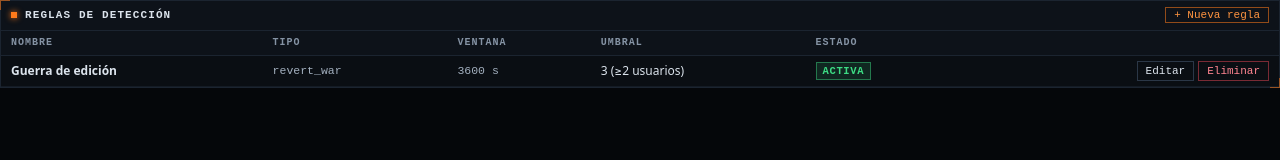
Test: RulesPanel › shows api errors
Check: the text "Guerra de edición" is shown, box top-left (1, 56), bottom-right (263, 86)
Click the button with aria-label "Pausar Guerra de edición" at (843, 71), box top-left (816, 62), bottom-right (871, 80)
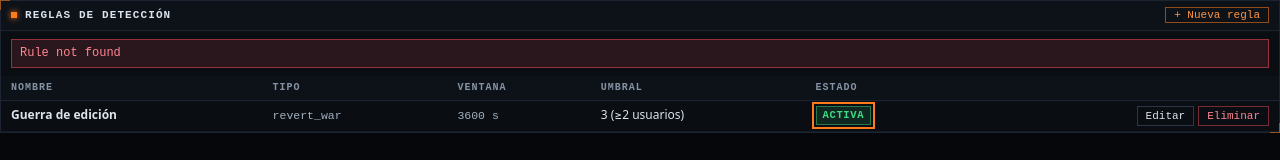
Check: the message reads "Rule not found", box top-left (20, 46), bottom-right (121, 60)
